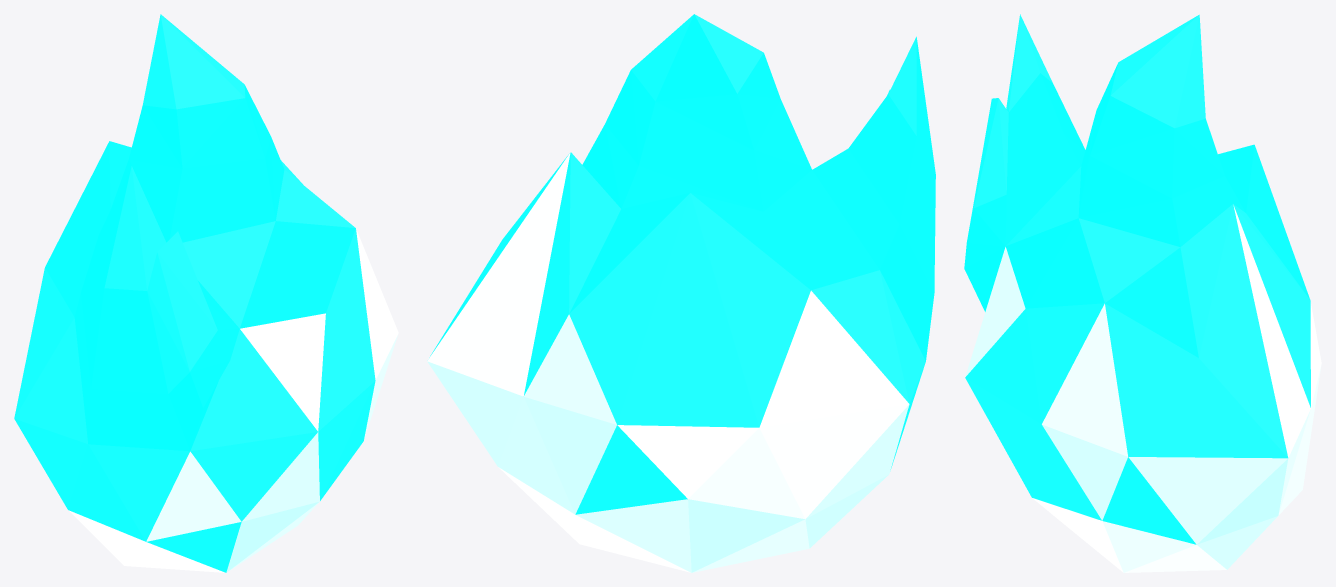
The model's file is llama.fbx.
3 views of the same model, side by side, from view 1: azimuth 30°, elevation 25°; view 2: azimuth 150°, elevation 25°; view 3: azimuth 270°, elevation 25° (orthographic). The views are drawn at different scales.
Parts seen in each view (by area): view 1: Fire; view 2: Fire; view 3: Fire.
Part boxes in pixels (left/top/right/bottom): Fire: left=14, top=14, right=398, bottom=572; Fire: left=427, top=14, right=935, bottom=572; Fire: left=964, top=14, right=1321, bottom=572.
Size of the model in its own units: 61.99 by 83.95 by 50.45.
